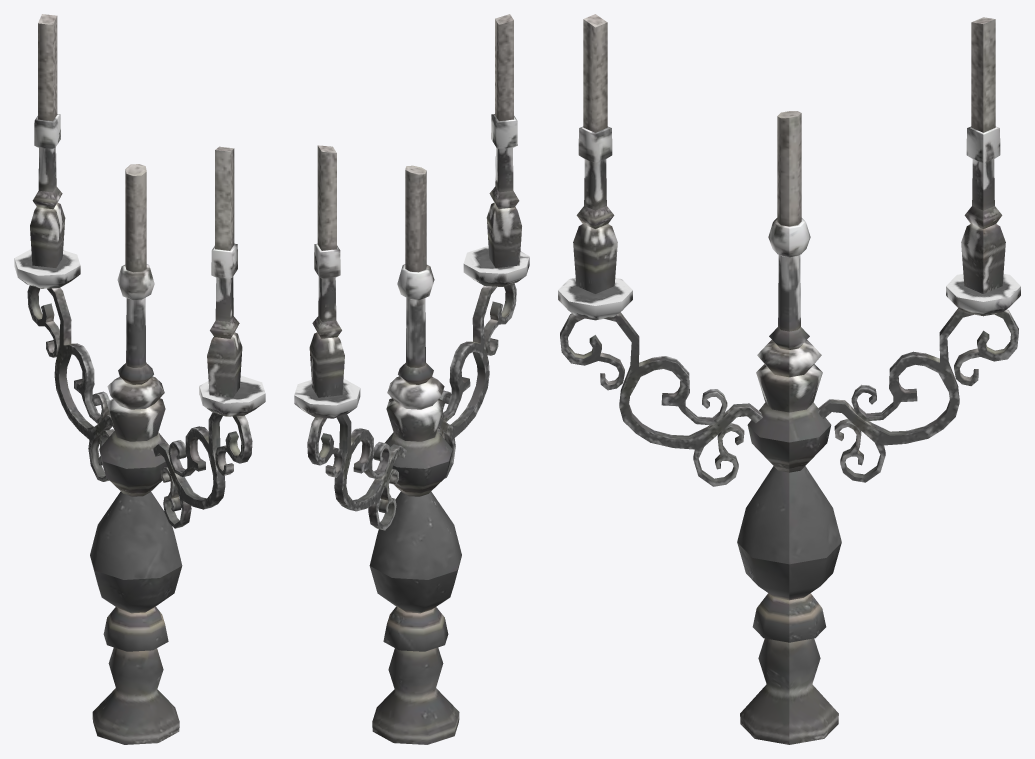
3 views of the same model, side by side, from view 1: azimuth 30°, elevation 25°; view 2: azimuth 150°, elevation 25°; view 3: azimuth 270°, elevation 25° (orthographic). The views are drawn at different scales.
Parts seen in each view (by area): view 1: SM_CandleStand03_LOD0; view 2: SM_CandleStand03_LOD0; view 3: SM_CandleStand03_LOD0.
Part boxes in pixels (left/top/right/bottom): SM_CandleStand03_LOD0: left=14, top=14, right=265, bottom=744; SM_CandleStand03_LOD0: left=294, top=14, right=529, bottom=744; SM_CandleStand03_LOD0: left=558, top=14, right=1020, bottom=744.
Bounding box in the file's own units: 0.1023 × 0.7598 × 0.4521.
1 material, 1 textured.
